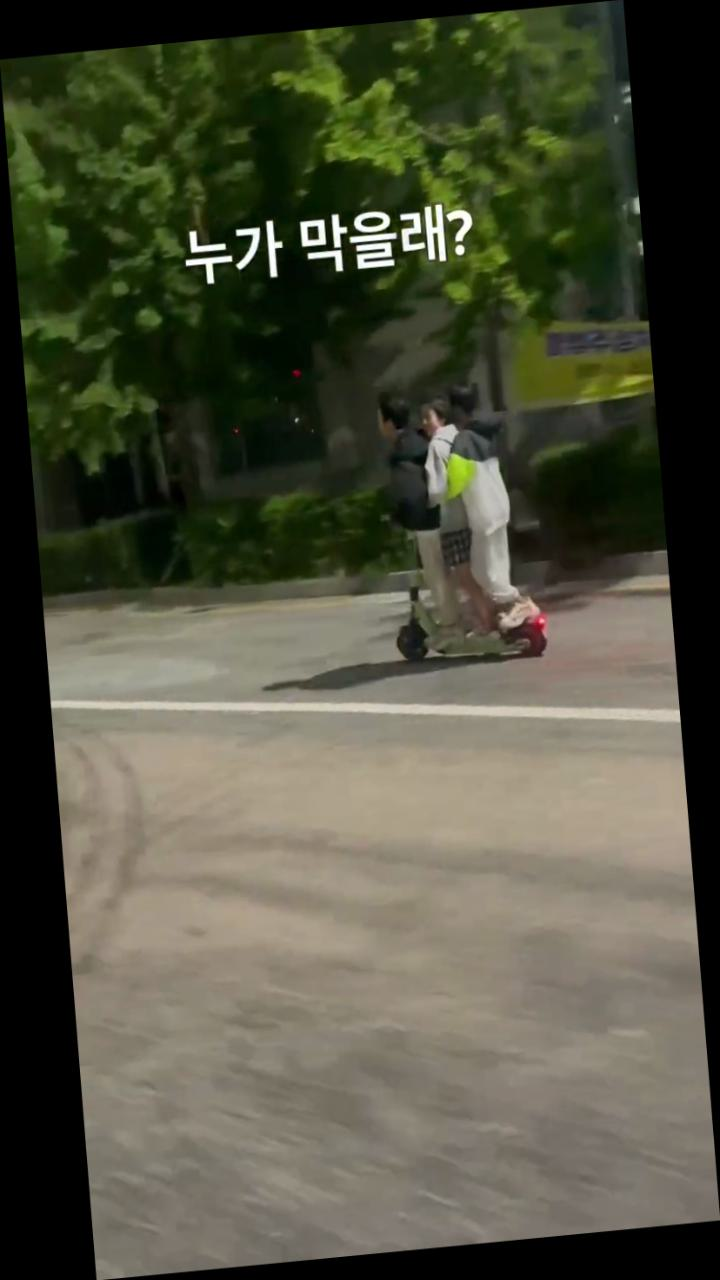multiple: (359, 370, 555, 670)
